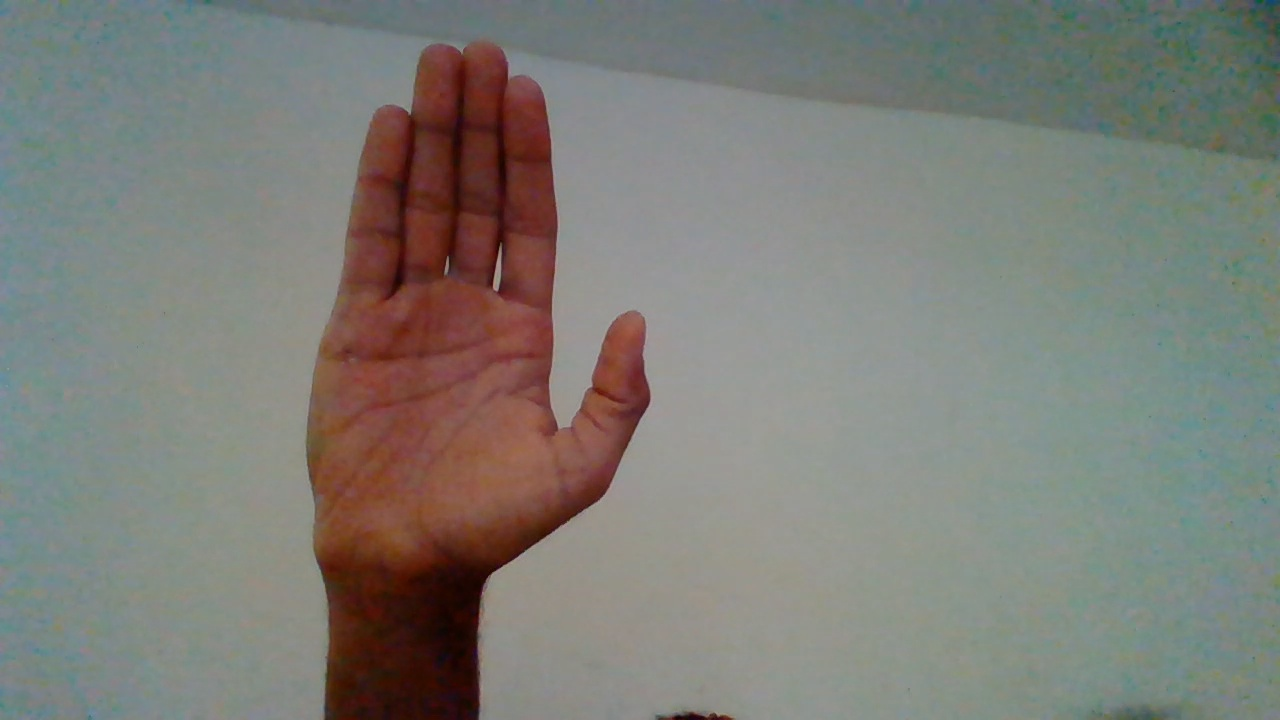ha: (294, 44, 660, 714)
